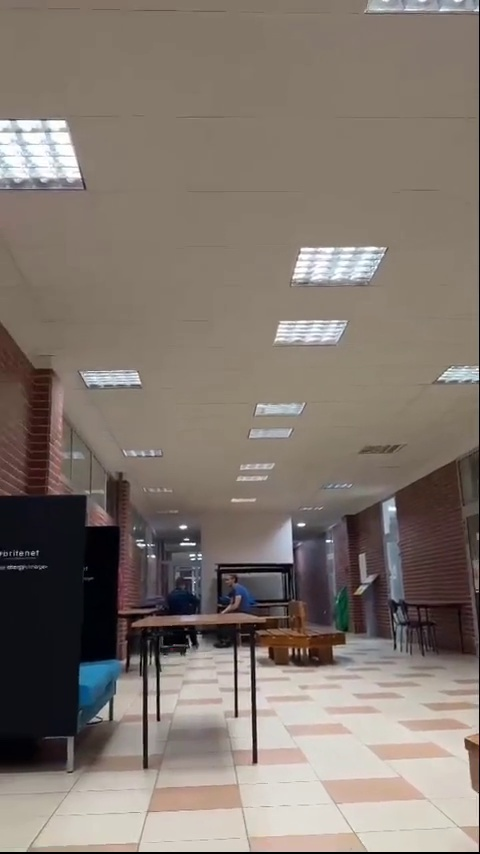drone: (153, 642, 193, 657)
no vest: (220, 572, 253, 618), (168, 578, 200, 618)
